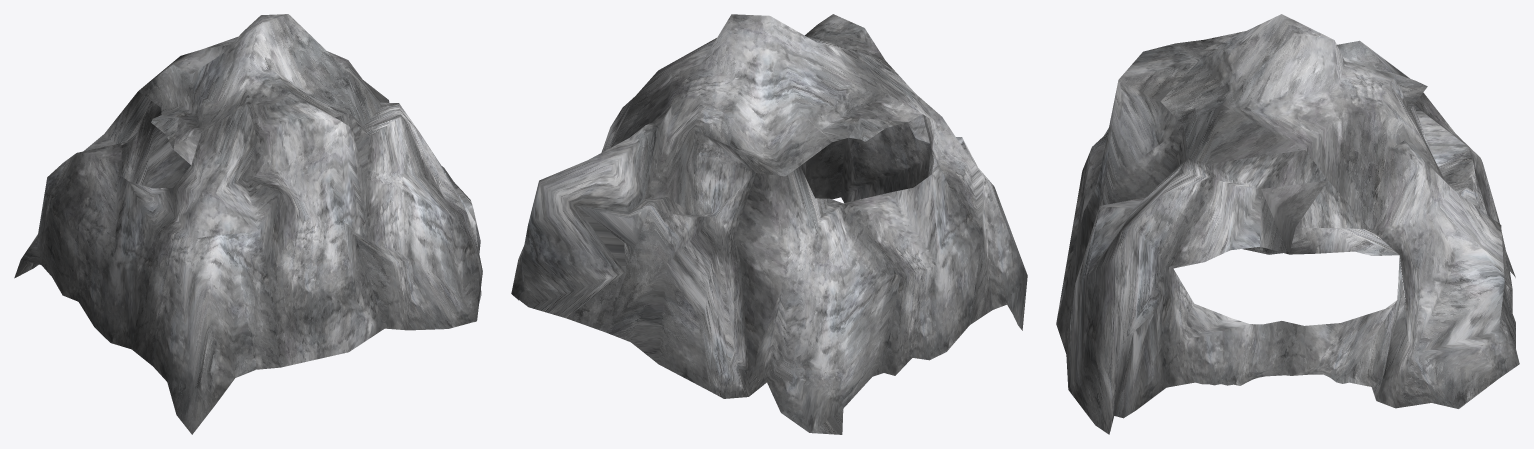
Rendered from bunker_dungeon_lid.DAE.
3 renders of one model, left to right at view 1: azimuth 30°, elevation 25°; view 2: azimuth 150°, elevation 25°; view 3: azimuth 270°, elevation 25°, orthographic. The views are drawn at different scales.
Visible parts, largest first — view 1: Box04; view 2: Box04; view 3: Box04.
Part boxes in pixels (bbox=[...]): Box04: bbox=[14, 14, 482, 434]; Box04: bbox=[511, 14, 1027, 434]; Box04: bbox=[1056, 14, 1519, 434].
Size of the model in its own units: 295 by 262 by 289.
